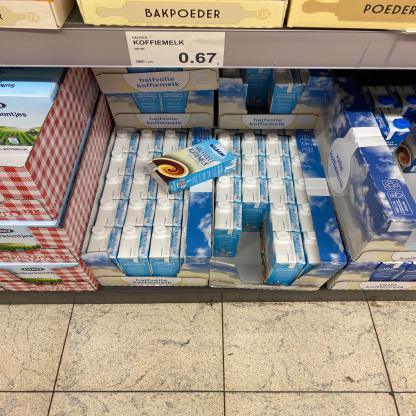prtg: (126, 32, 227, 68)
